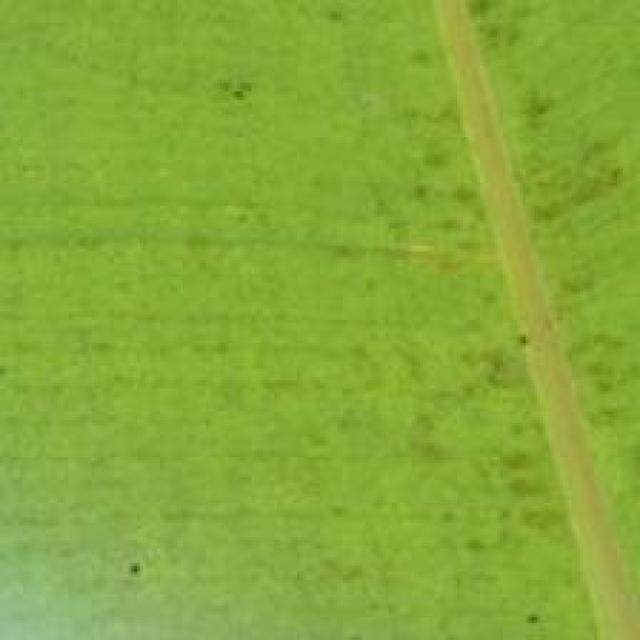Black_leaf_spot: (14, 3, 640, 560)
